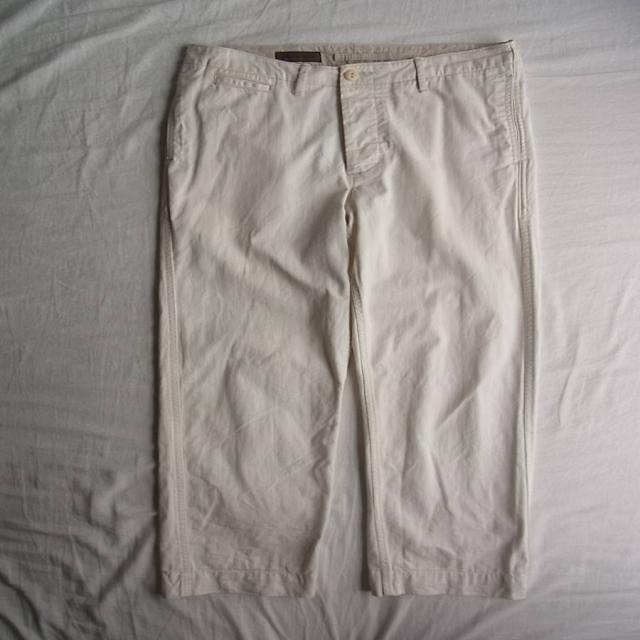long-pants: (154, 38, 534, 600)
